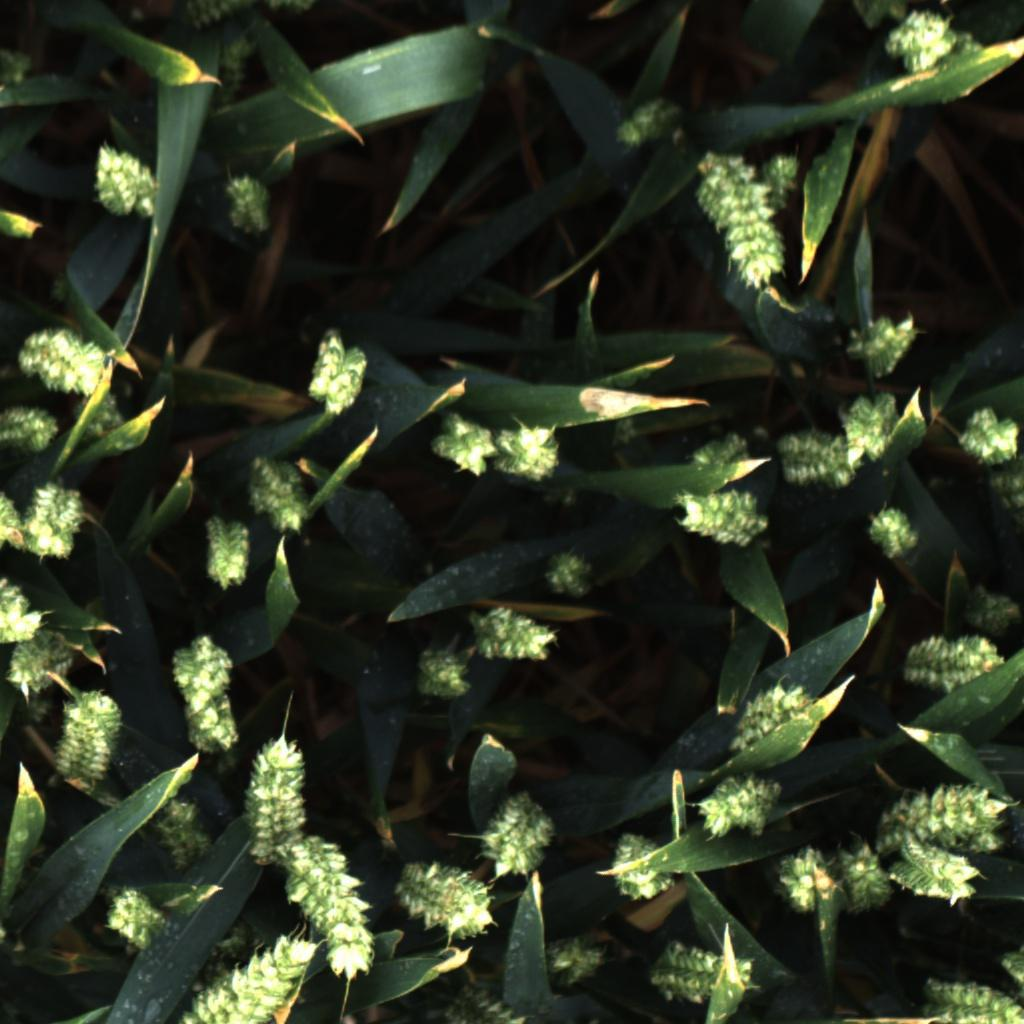0-0: (692, 146, 789, 293), (285, 835, 380, 979), (182, 927, 321, 1024), (872, 778, 1018, 859), (240, 724, 315, 870), (165, 627, 245, 756), (394, 853, 498, 947), (639, 933, 762, 1004), (667, 474, 769, 553), (726, 676, 822, 759), (18, 320, 118, 399), (48, 685, 126, 785), (694, 763, 791, 841), (476, 792, 565, 877), (298, 320, 372, 420), (239, 452, 324, 537), (467, 602, 565, 674), (85, 136, 166, 221), (901, 634, 1006, 698), (3, 621, 80, 706), (18, 480, 97, 562), (879, 1, 958, 76), (94, 878, 171, 954), (838, 308, 918, 381), (148, 790, 214, 875), (606, 828, 682, 901), (769, 841, 835, 923), (884, 853, 978, 910), (831, 391, 903, 465), (423, 404, 493, 480), (610, 89, 687, 158), (886, 838, 986, 891), (194, 509, 257, 593), (831, 839, 897, 917), (495, 416, 570, 483), (777, 428, 853, 494), (59, 386, 134, 452), (218, 170, 284, 244), (212, 24, 265, 110), (956, 398, 1023, 465), (536, 932, 612, 986), (0, 569, 50, 651), (414, 641, 478, 705), (866, 502, 930, 563), (0, 398, 64, 459), (444, 988, 549, 1024), (958, 583, 1024, 637), (535, 547, 599, 600), (180, 0, 272, 34), (686, 426, 754, 470), (757, 152, 805, 211), (848, 0, 921, 37), (989, 444, 1024, 511), (921, 1000, 1018, 1024), (993, 948, 1024, 1000), (0, 477, 19, 558), (23, 681, 55, 728)
